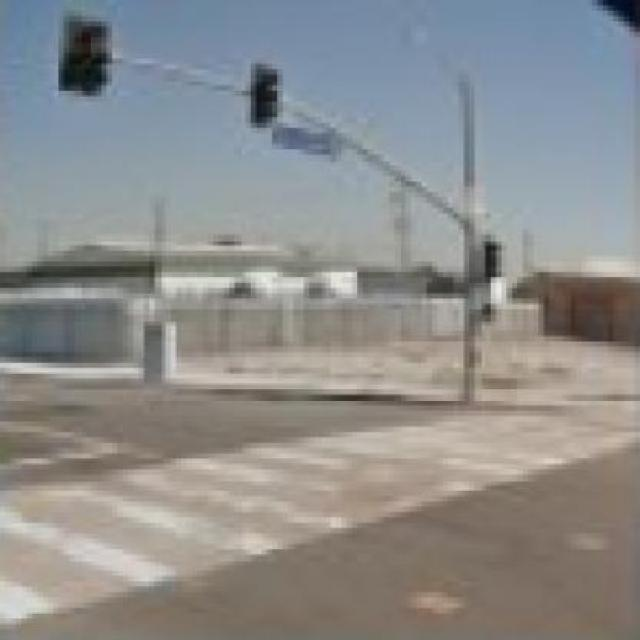crosswalk: (2, 408, 637, 628)
